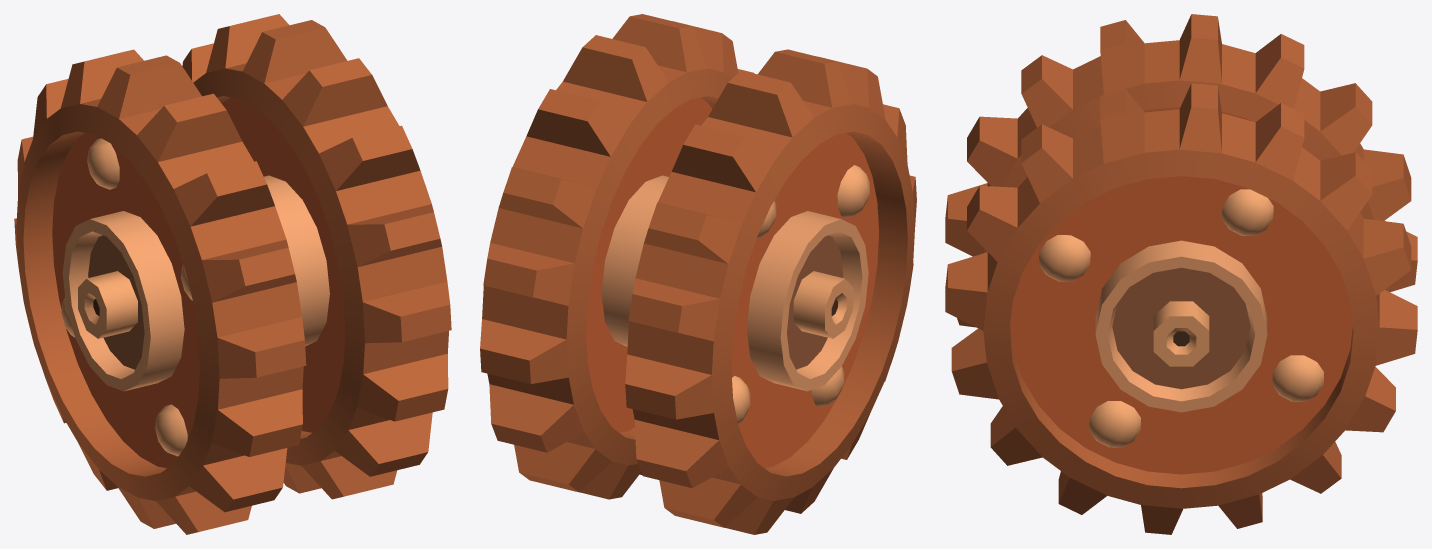
Rendered from obstacle_13_003.fbx.
3 renders of one model, left to right at view 1: azimuth 30°, elevation 25°; view 2: azimuth 150°, elevation 25°; view 3: azimuth 270°, elevation 25°, orthographic. The views are drawn at different scales.
Visible parts, largest first — view 1: obstacle_13_003; view 2: obstacle_13_003; view 3: obstacle_13_003.
Part boxes in pixels (x1,y1,x2,y2): obstacle_13_003: [14, 14, 451, 534]; obstacle_13_003: [480, 14, 916, 534]; obstacle_13_003: [945, 14, 1417, 534].
Size of the model in its own units: 134 by 199 by 199.
